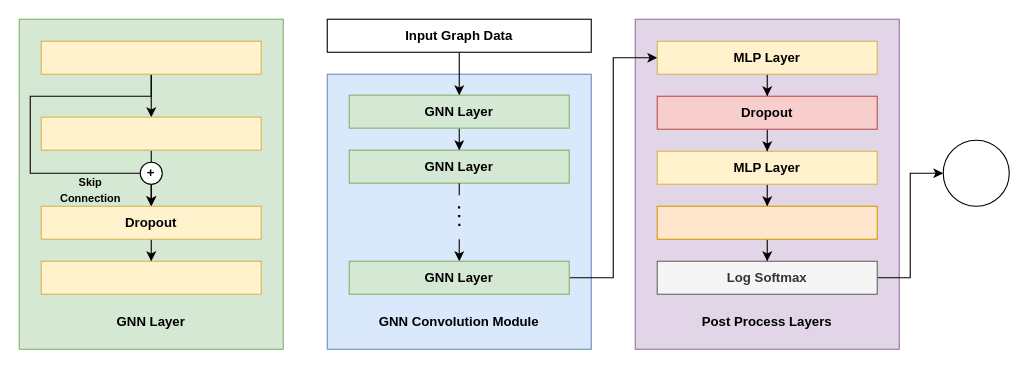
Some shapes in this 1029 by 369 pixel diagram are drawn without their labels. Here are the shapes that lost their labels. From the top down, the box of each, then its label:
(40, 40, 261, 74): Convolution Layer
(40, 116, 261, 150): Batch Normalization
(942, 139, 1009, 206): OUT
(656, 205, 877, 239): Global Add Pool
(40, 260, 261, 294): Activation (ReLU)
